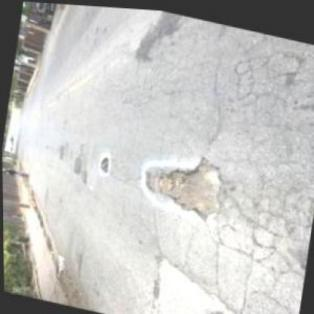Hueco: (138, 144, 227, 220), (95, 152, 111, 173)
